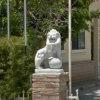Statue: (18, 23, 77, 82)
